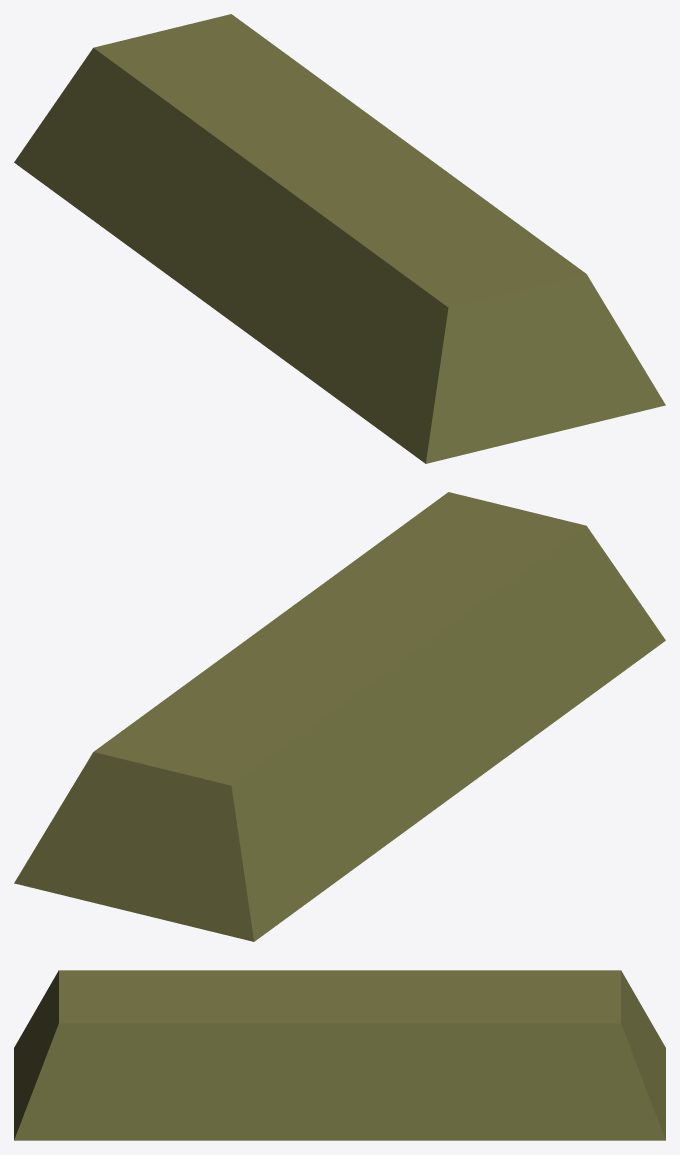
Rendered from Gold Bar.fbx.
3 views of the same model, one above another, from view 1: azimuth 30°, elevation 25°; view 2: azimuth 150°, elevation 25°; view 3: azimuth 270°, elevation 25° (orthographic). The views are drawn at different scales.
Parts seen in each view (by area): view 1: Gold_Bar; view 2: Gold_Bar; view 3: Gold_Bar.
Part boxes in pixels (box(x1,y1,x2,y2)): Gold_Bar: box(14, 14, 665, 463); Gold_Bar: box(14, 492, 665, 941); Gold_Bar: box(14, 970, 665, 1140).
Bounding box in the file's own units: 1 × 0.4898 × 2.97.
